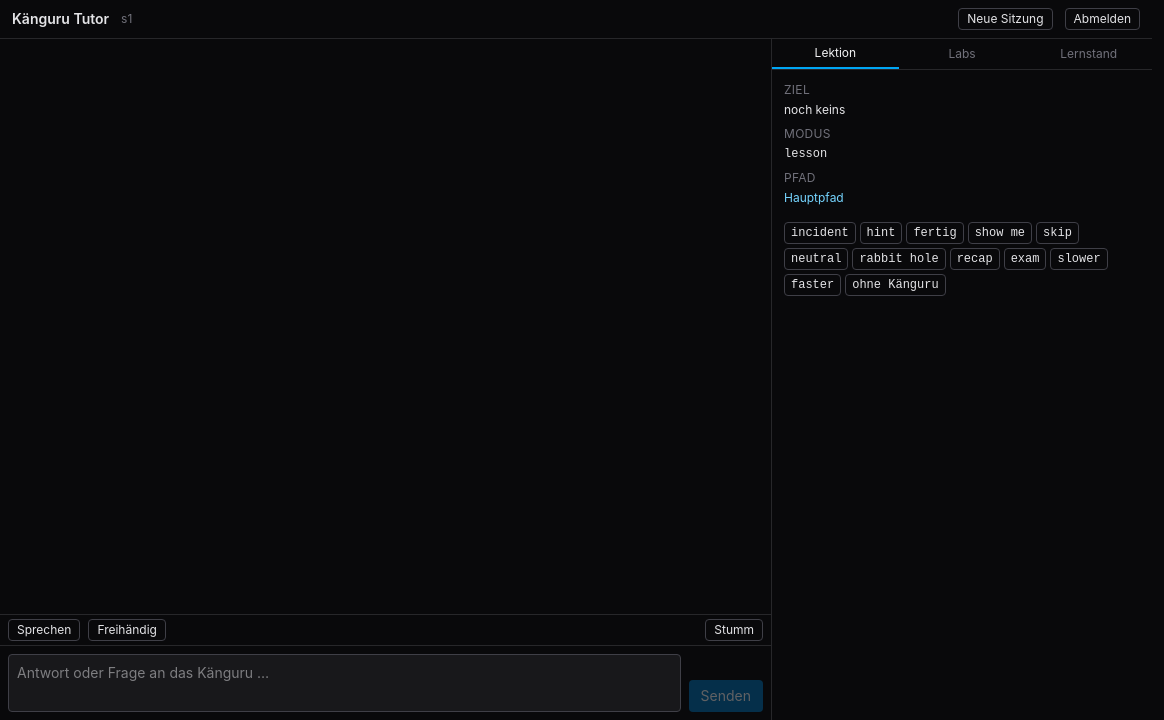
Test case: incident: a customer problem as first message switches the session to incident mode at once
Type "Kunde meldet 42501 beim Insert" into the text box labelled "Antwort oder Frage an das Känguru …" at (344, 683), box left=8, top=654, right=681, bottom=712
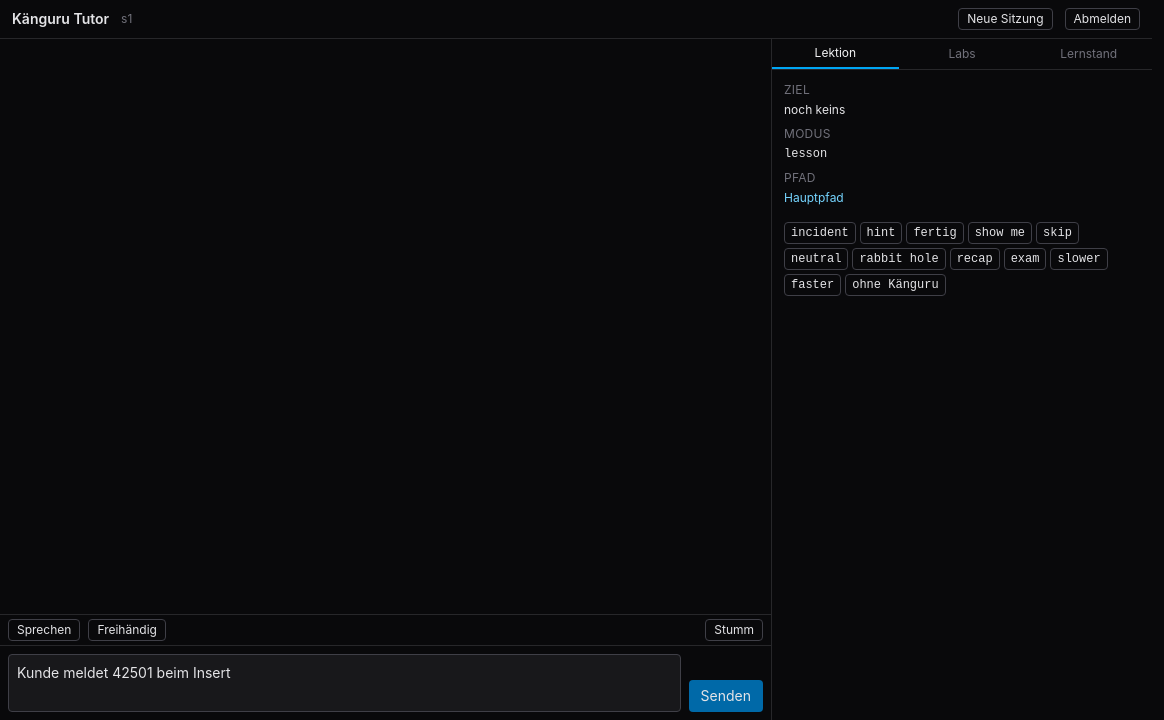
Click the button "Senden" at (726, 696), box left=689, top=680, right=763, bottom=712
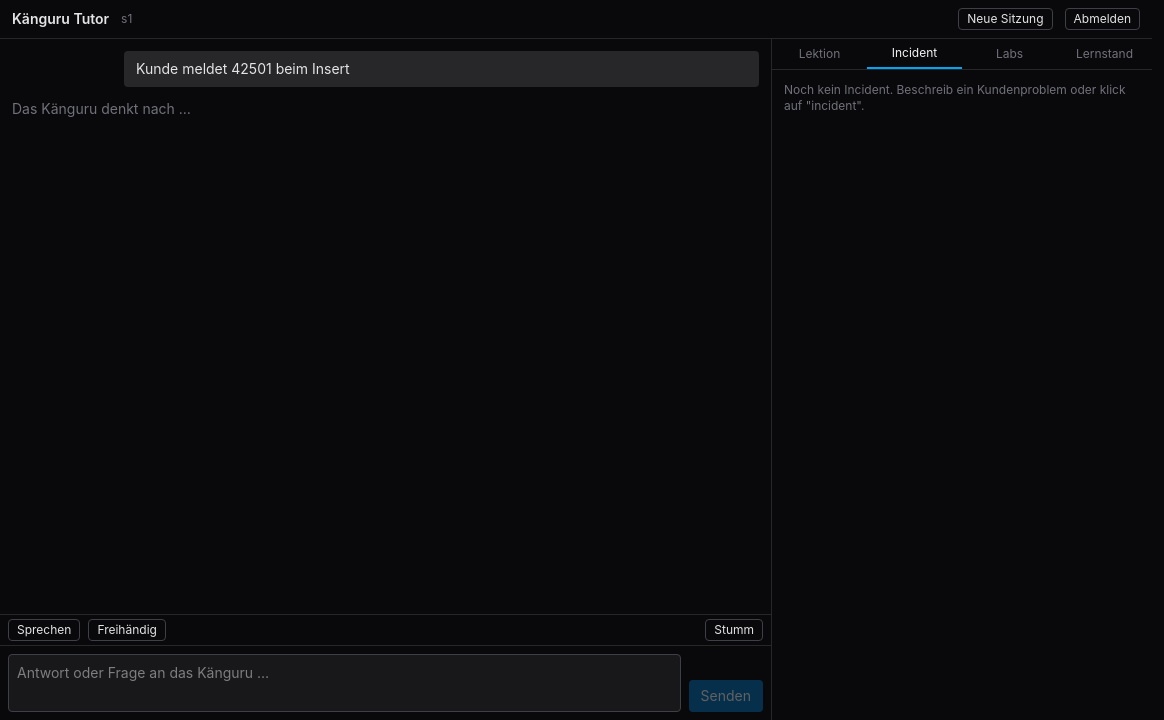
Result: the text "Noch kein Incident" is shown at left=784, top=82, right=1126, bottom=113
